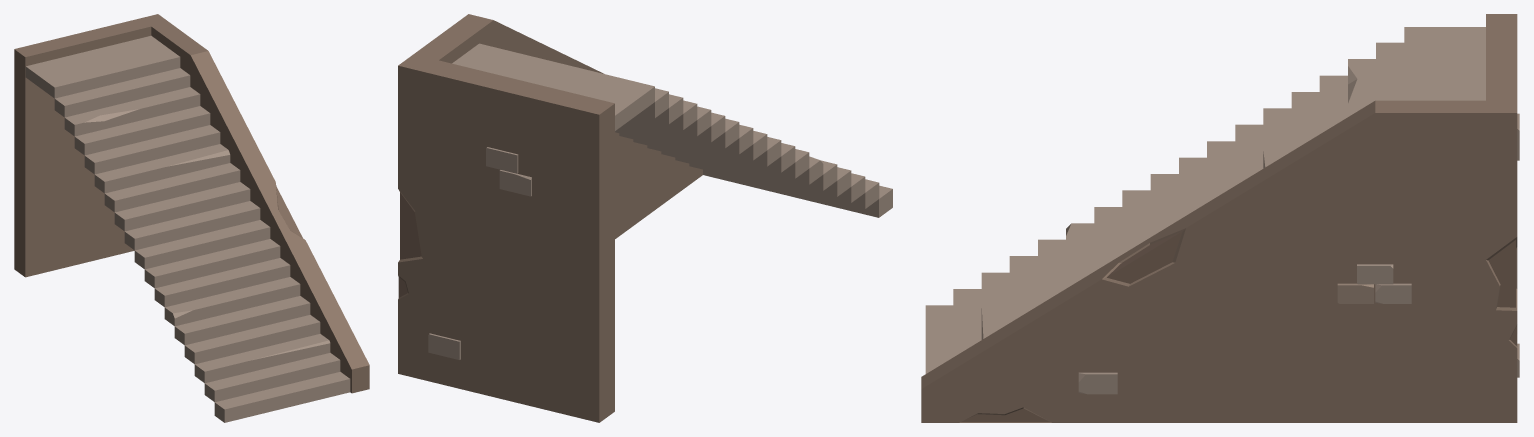
File: Stairs_01L.fbx
The picture shows the model from 3 angles, left to right: view 1: azimuth 30°, elevation 25°; view 2: azimuth 150°, elevation 25°; view 3: azimuth 270°, elevation 25°; orthographic projection. The views are drawn at different scales.
Visible parts, largest first — view 1: Stairs_01L; view 2: Stairs_01L; view 3: Stairs_01L.
Boxes of the visible parts, box(x1,y1,x2,y2) form: Stairs_01L: box(14, 14, 369, 422); Stairs_01L: box(398, 14, 892, 422); Stairs_01L: box(921, 14, 1519, 422).
Bounding box in the file's own units: 253 × 364 × 637.
